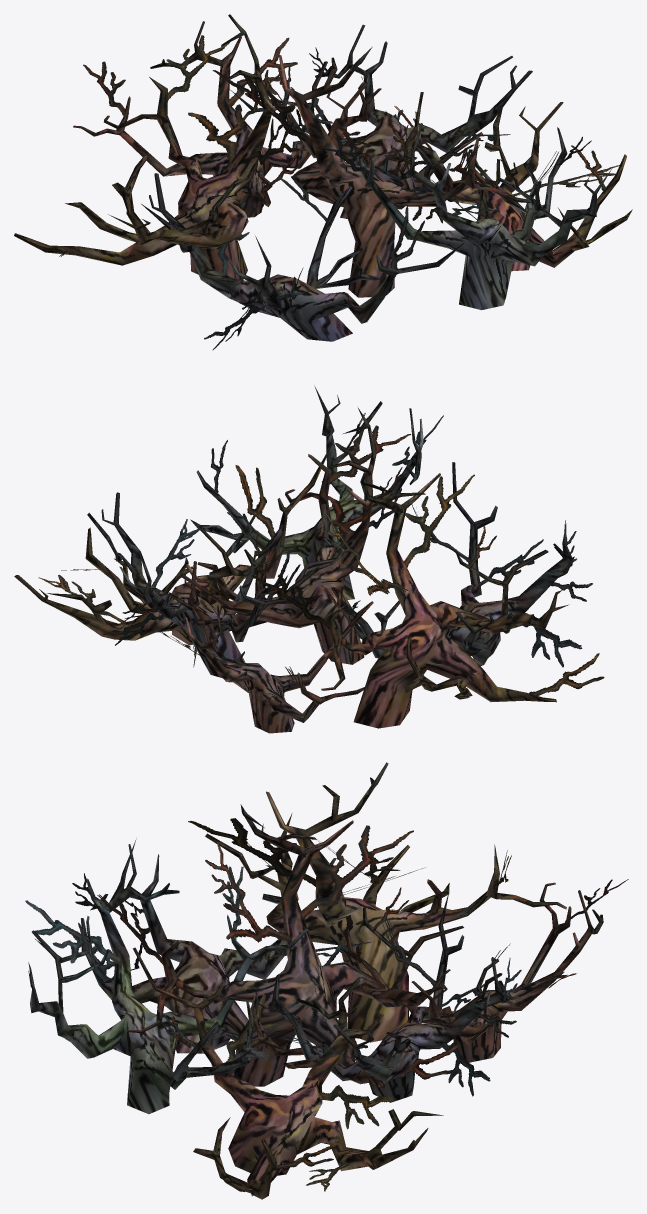
The model's file is FOL_DeadTreeGroupCrown.FBX.
The picture shows the model from 3 angles, top to bottom: view 1: azimuth 30°, elevation 25°; view 2: azimuth 150°, elevation 25°; view 3: azimuth 270°, elevation 25°; orthographic projection. The views are drawn at different scales.
Visible parts, largest first — view 1: FOL_DeadTreeGroup14, FOL_DeadTreeGroup11, FOL_DeadTreeGroup13, FOL_DeadTreeGroup12, FOL_DeadTreeGroup09, FOL_DeadTreeGroup10, FOL_DeadTreeGroup08; view 2: FOL_DeadTreeGroup14, FOL_DeadTreeGroup11, FOL_DeadTreeGroup10, FOL_DeadTreeGroup12, FOL_DeadTreeGroup08, FOL_DeadTreeGroup09, FOL_DeadTreeGroup13; view 3: FOL_DeadTreeGroup11, FOL_DeadTreeGroup10, FOL_DeadTreeGroup13, FOL_DeadTreeGroup14, FOL_DeadTreeGroup08, FOL_DeadTreeGroup12, FOL_DeadTreeGroup09.
Part boxes in pixels (x1,y1,x2,y2): FOL_DeadTreeGroup14: (14,14,298,279); FOL_DeadTreeGroup11: (212,46,542,297); FOL_DeadTreeGroup13: (317,123,612,310); FOL_DeadTreeGroup12: (141,173,464,350); FOL_DeadTreeGroup09: (73,21,381,217); FOL_DeadTreeGroup10: (385,92,632,271); FOL_DeadTreeGroup08: (230,24,532,218); FOL_DeadTreeGroup14: (251,472,604,728); FOL_DeadTreeGroup11: (124,408,414,664); FOL_DeadTreeGroup10: (14,446,330,667); FOL_DeadTreeGroup12: (340,462,592,667); FOL_DeadTreeGroup08: (87,492,307,677); FOL_DeadTreeGroup09: (138,561,373,733); FOL_DeadTreeGroup13: (190,386,443,599); FOL_DeadTreeGroup11: (97,804,463,1088); FOL_DeadTreeGroup10: (133,947,443,1199); FOL_DeadTreeGroup13: (25,844,308,1114); FOL_DeadTreeGroup14: (188,762,566,1042); FOL_DeadTreeGroup08: (257,891,521,1102); FOL_DeadTreeGroup12: (35,839,371,1053); FOL_DeadTreeGroup09: (343,879,628,1062).
Bounding box in the file's own units: 1311 × 567 × 1078.
